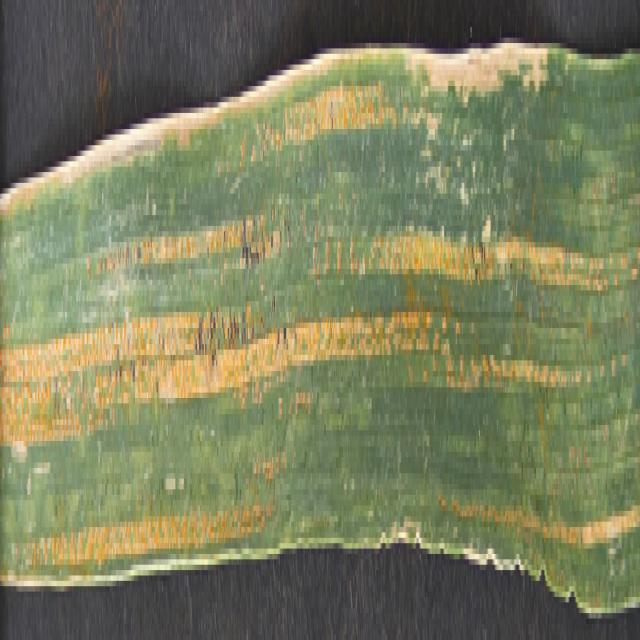leaf rust: (0, 80, 640, 575)
